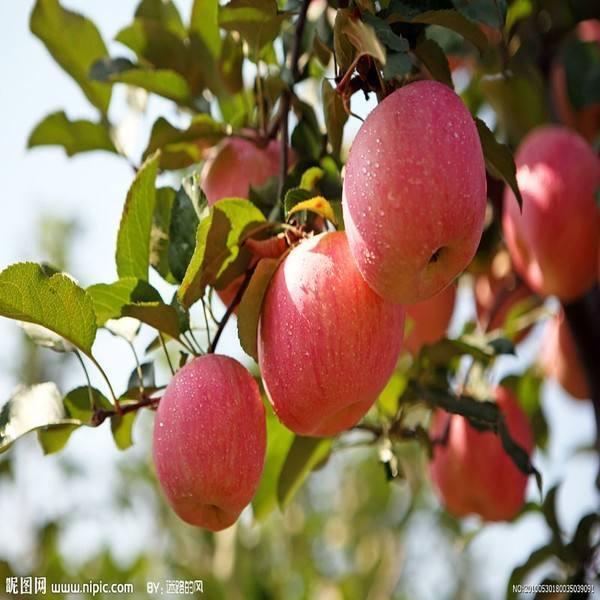apple: (336, 81, 485, 311), (254, 228, 404, 439), (149, 352, 265, 534), (425, 400, 536, 525)
